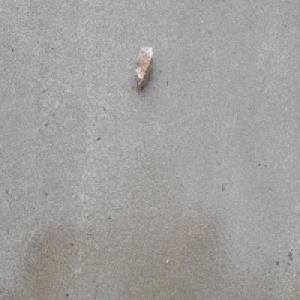Rock: (134, 45, 154, 91)
